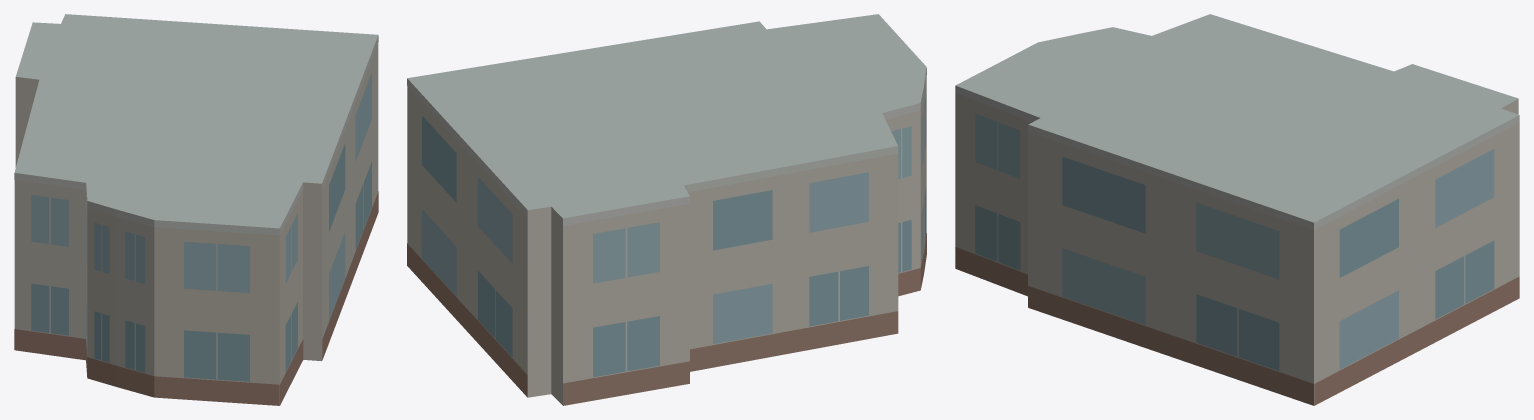
Rendered from survey-upis-32982388.glb.
The picture shows the model from 3 angles, left to right: view 1: azimuth 30°, elevation 25°; view 2: azimuth 150°, elevation 25°; view 3: azimuth 270°, elevation 25°; orthographic projection. The views are drawn at different scales.
Parts seen in each view (by area): view 1: survey-upis-32982388.tmp; view 2: survey-upis-32982388.tmp; view 3: survey-upis-32982388.tmp.
Boxes of the visible parts, <box> form: survey-upis-32982388.tmp: <box>14,14,378,405</box>; survey-upis-32982388.tmp: <box>407,14,926,405</box>; survey-upis-32982388.tmp: <box>955,14,1519,405</box>.
Size of the model in its own units: 14.92 by 6.1 by 17.04.
